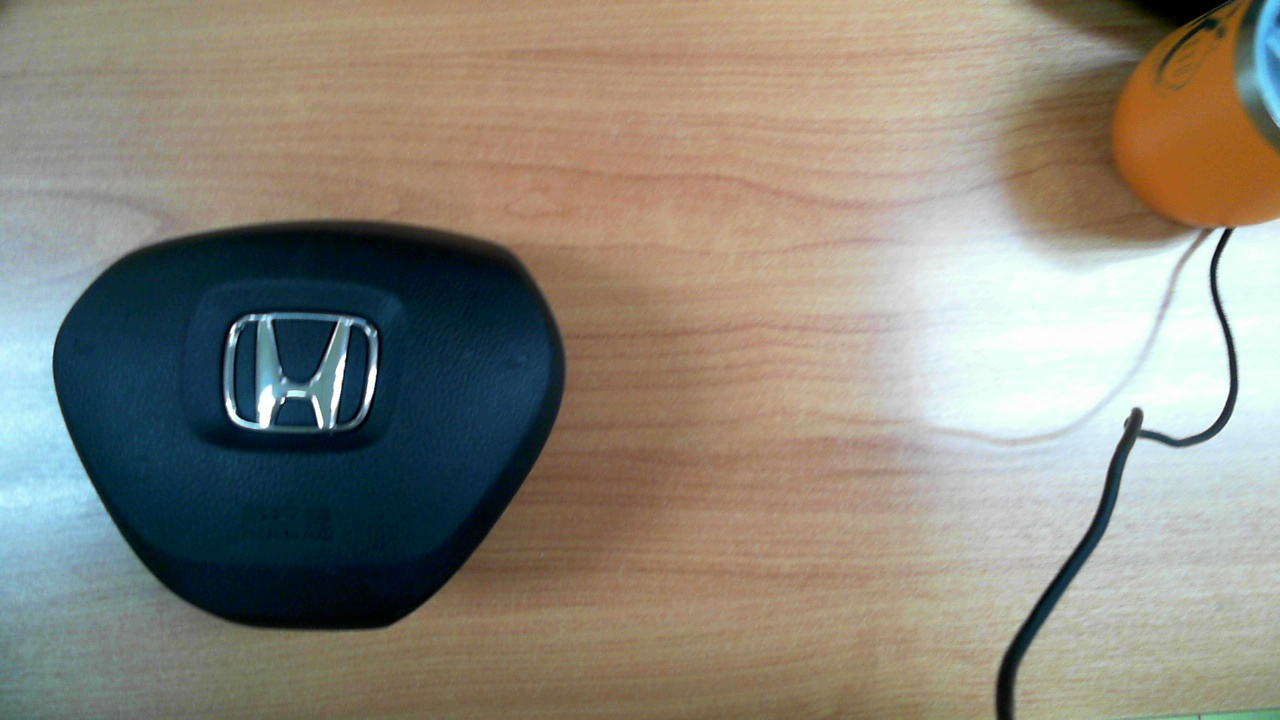Airbag: (52, 219, 566, 631)
Honda: (223, 312, 378, 434)
